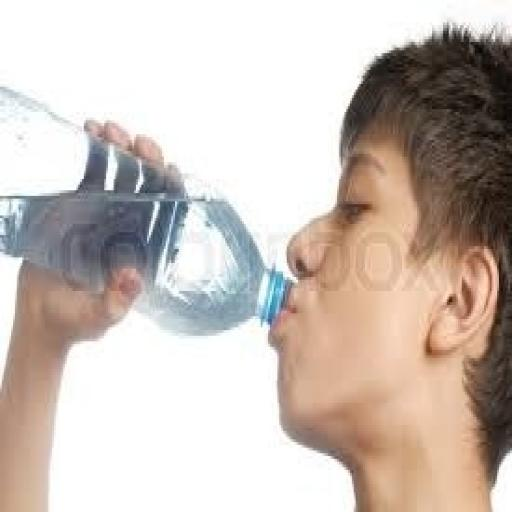drinking: (0, 81, 294, 336)
